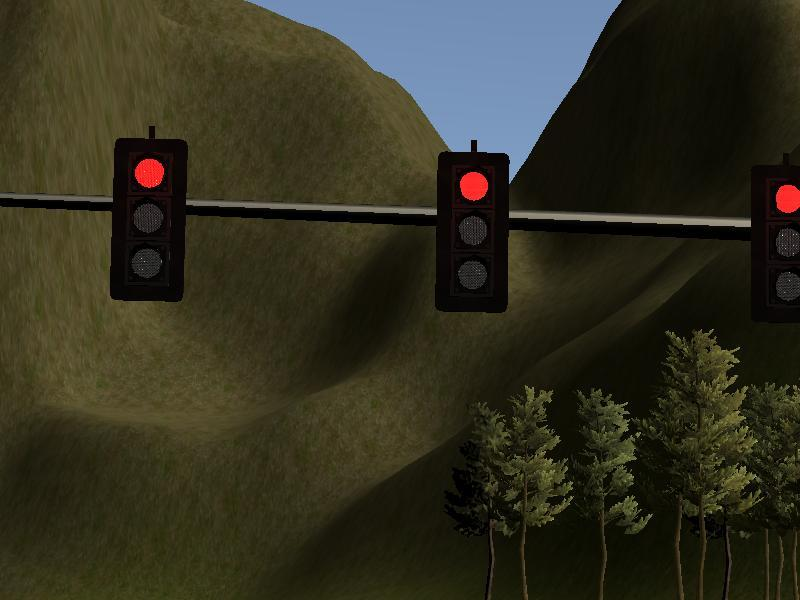Red: (441, 154, 508, 308), (118, 142, 182, 295), (757, 169, 800, 320)
